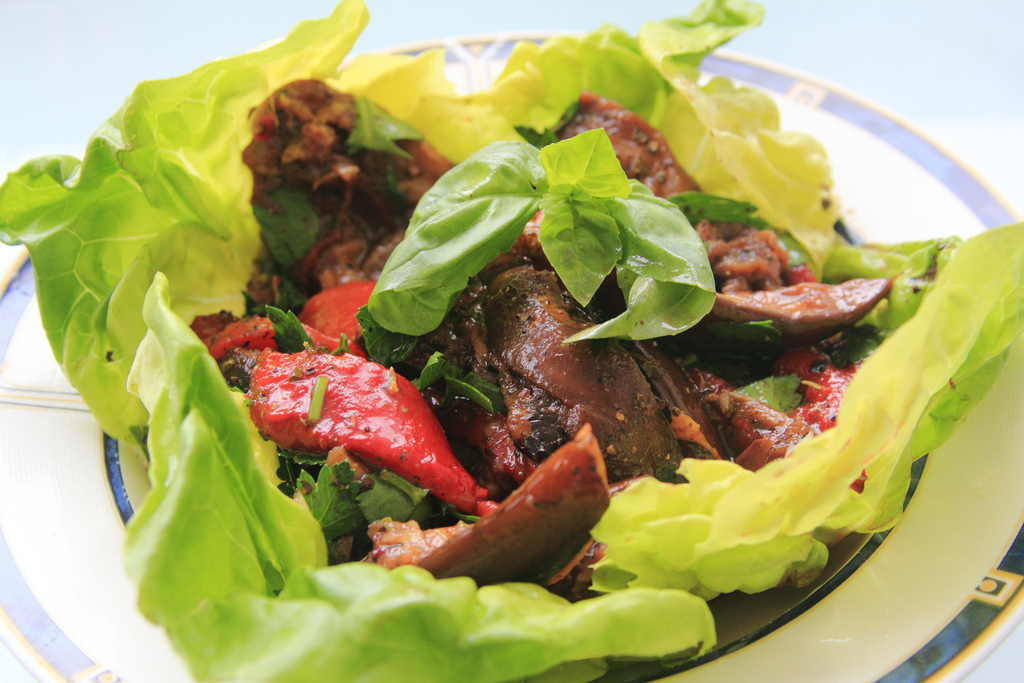chopped lettuce: (9, 46, 341, 683), (330, 17, 859, 244), (799, 193, 1024, 637), (252, 541, 754, 683)
